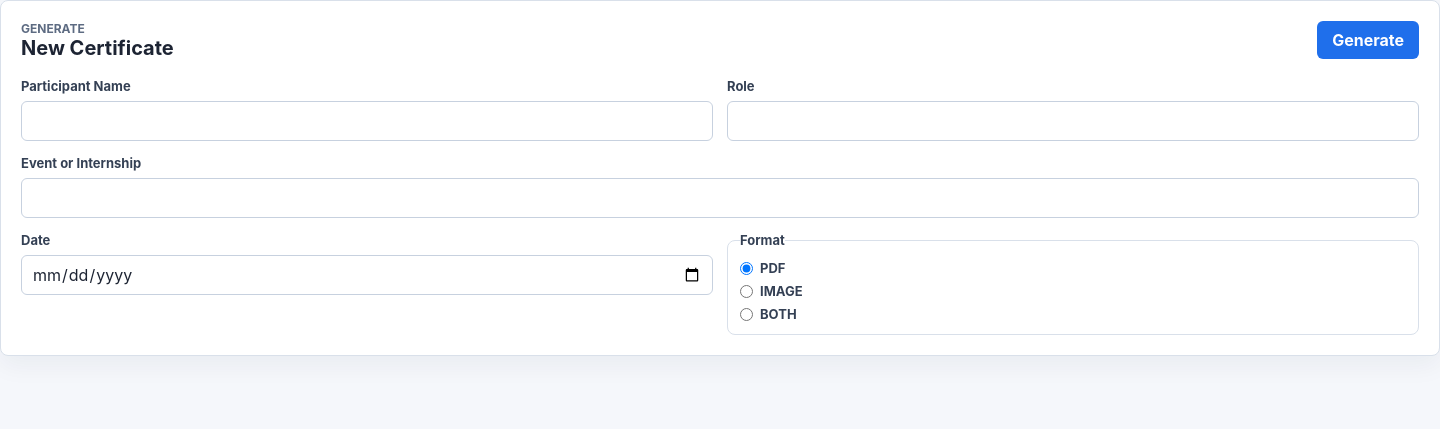
Test: CertificateForm › submits valid form data and reports success
Type "Jane Doe" into the field labelled "Participant Name" at (367, 121), box [21,101,713,141]
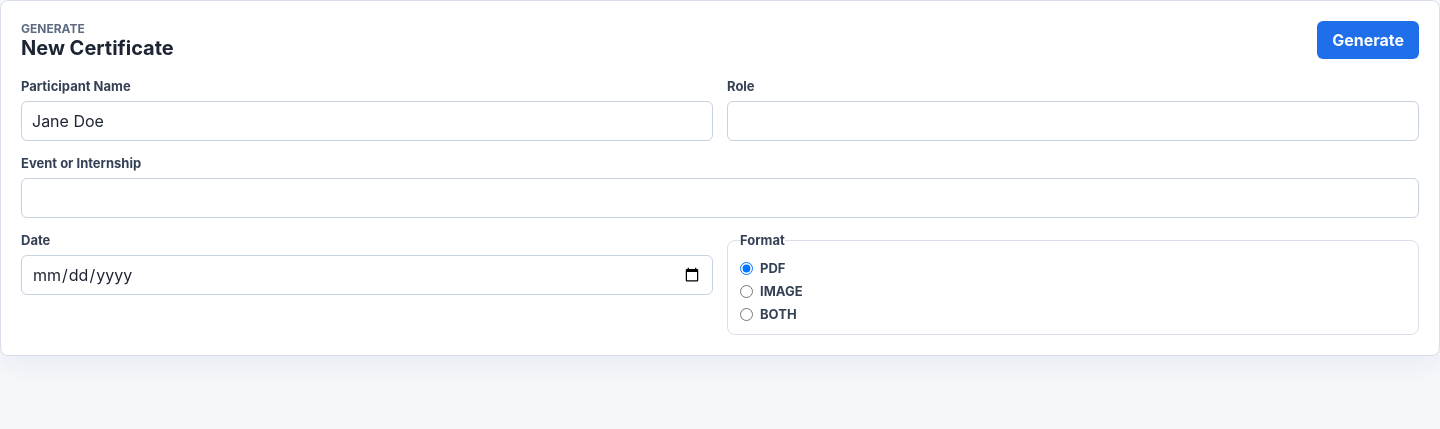
Type "Developer" into the field labelled "Role" at (1073, 121), box [727,101,1419,141]
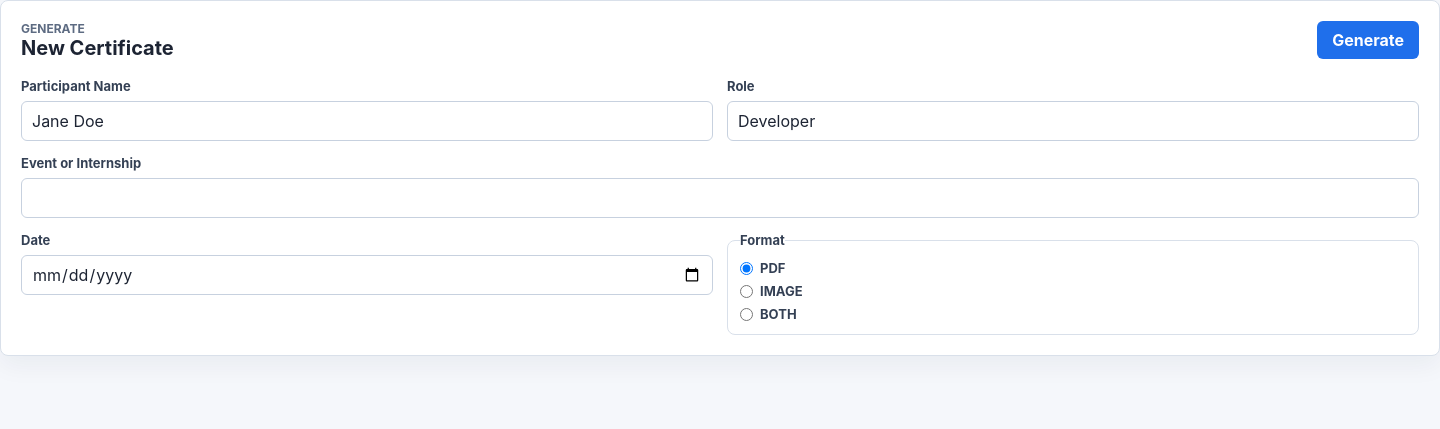
Type "Internship" into the field labelled "Event or Internship" at (720, 198), box [21,178,1419,218]
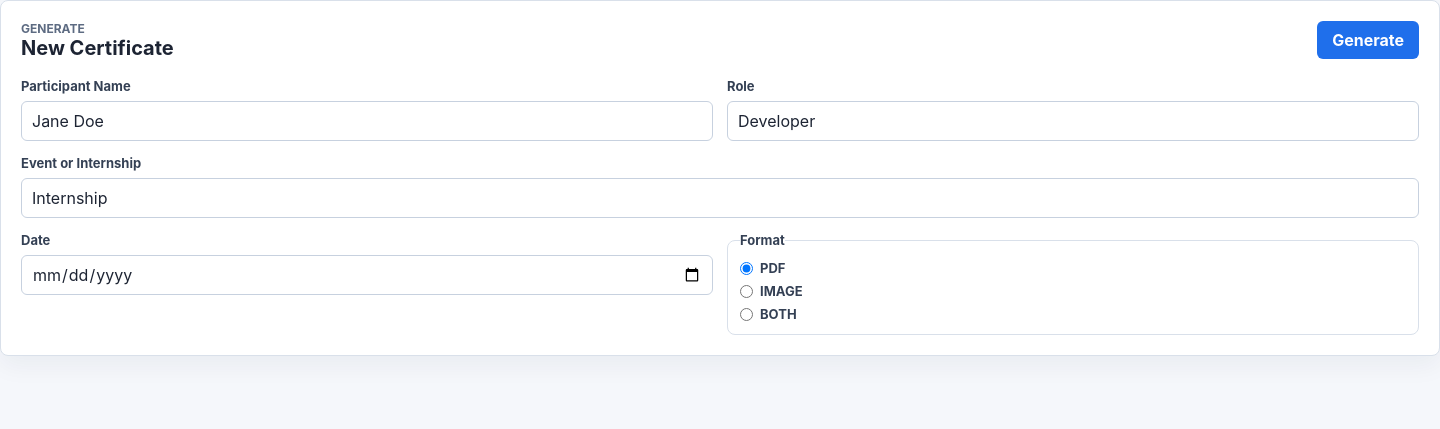
Type "2026-05-08" into the date field labelled "Date" at (367, 275), box [21,255,713,295]
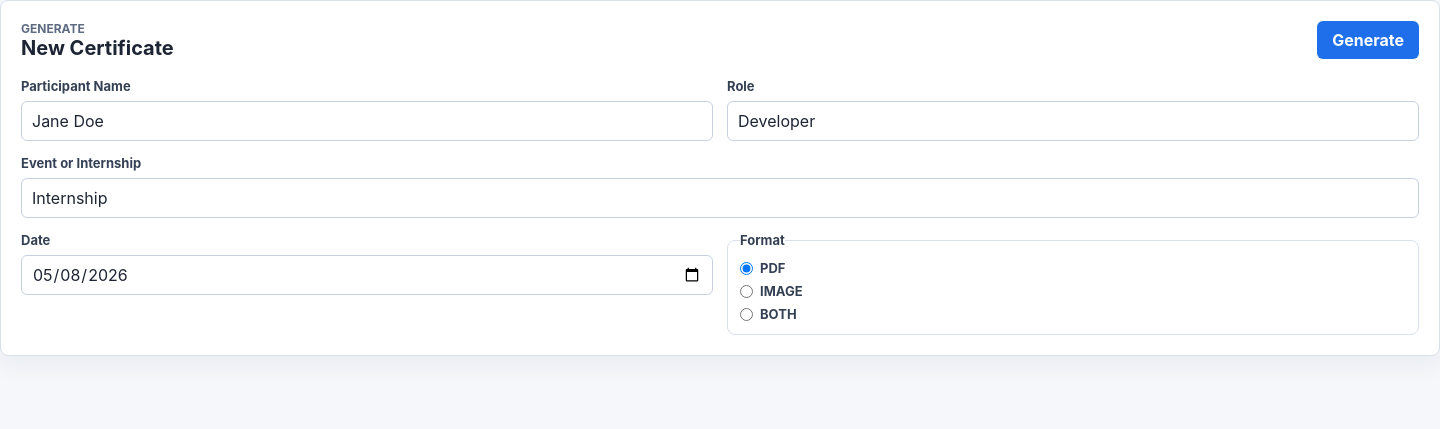
Click the radio button labelled "BOTH" at (746, 314), box [740,308,753,320]
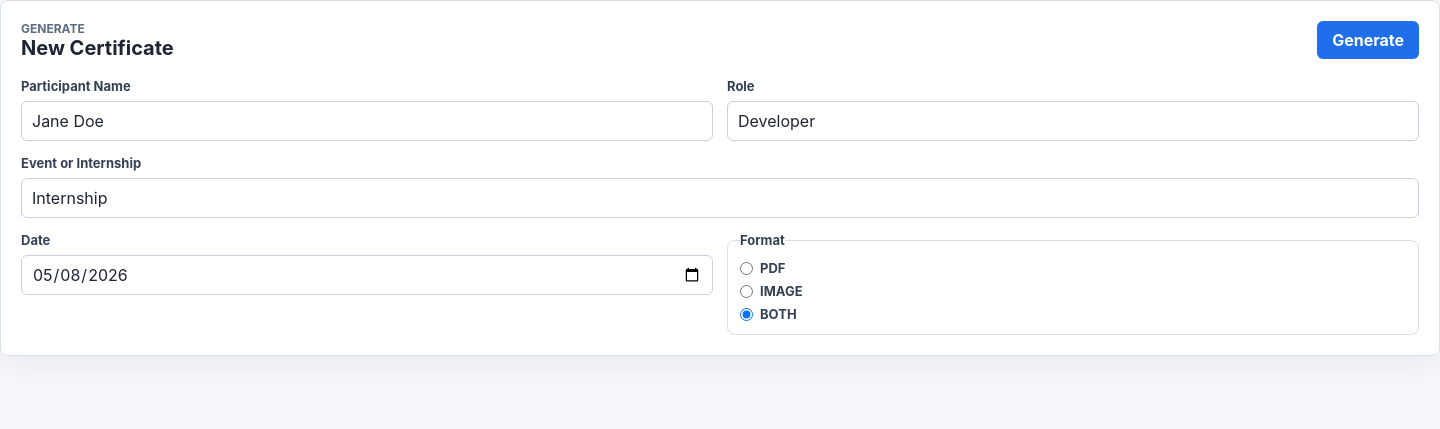
Click the button "Generate" at (1368, 40), box [1317,21,1419,59]
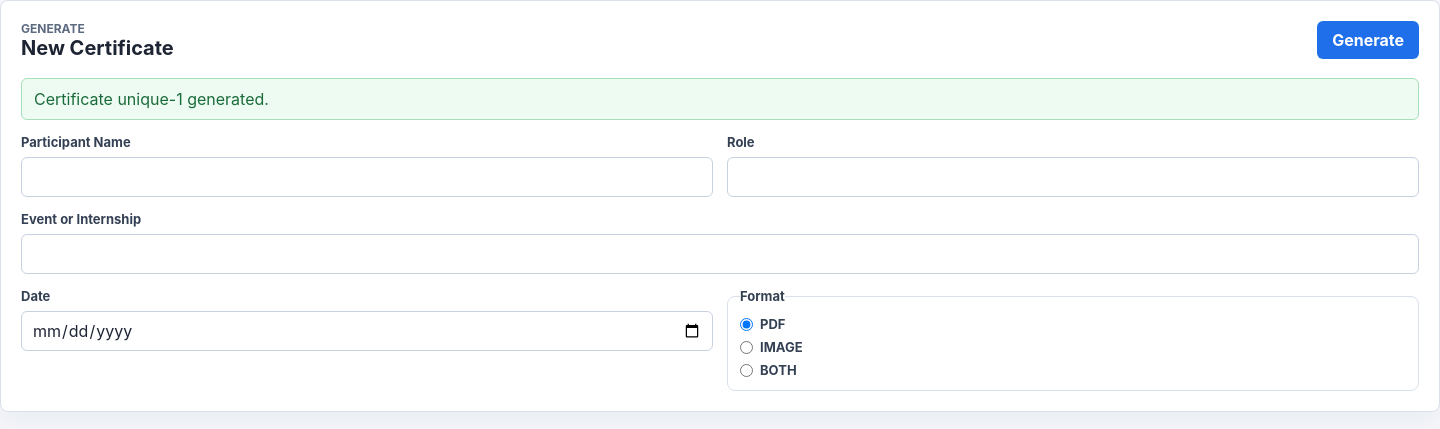
Expected: the text "Certificate unique-1 generated." is shown, [21,78,1419,120]
